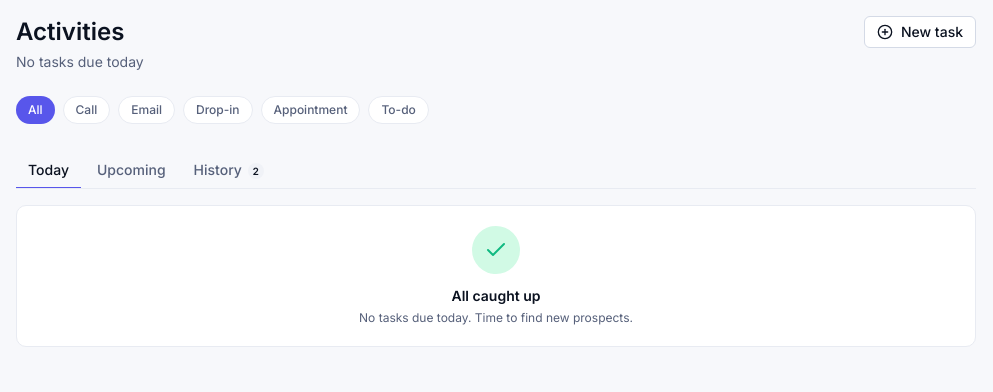
Scenario: ActivitiesPage / History › shows completed to-dos alongside logged activities
Click the tab "History 2". click: (229, 170)
box: [182,152,276,188]
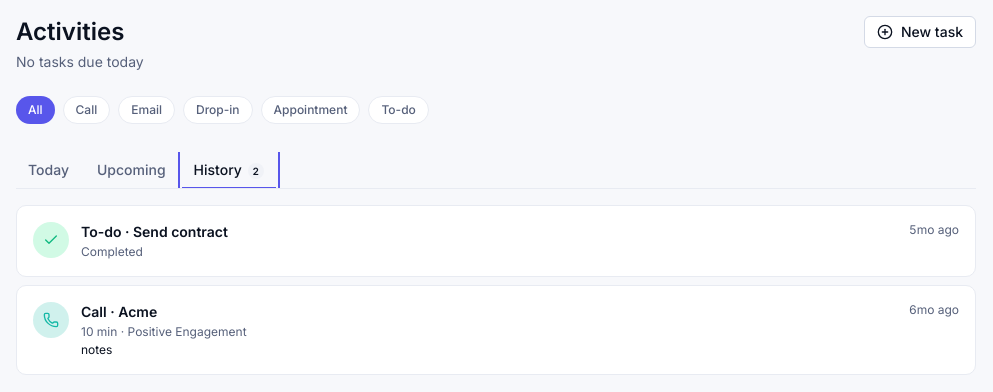
Expected: the text "To-do · Send contract" is shown, [81,223,228,240]
